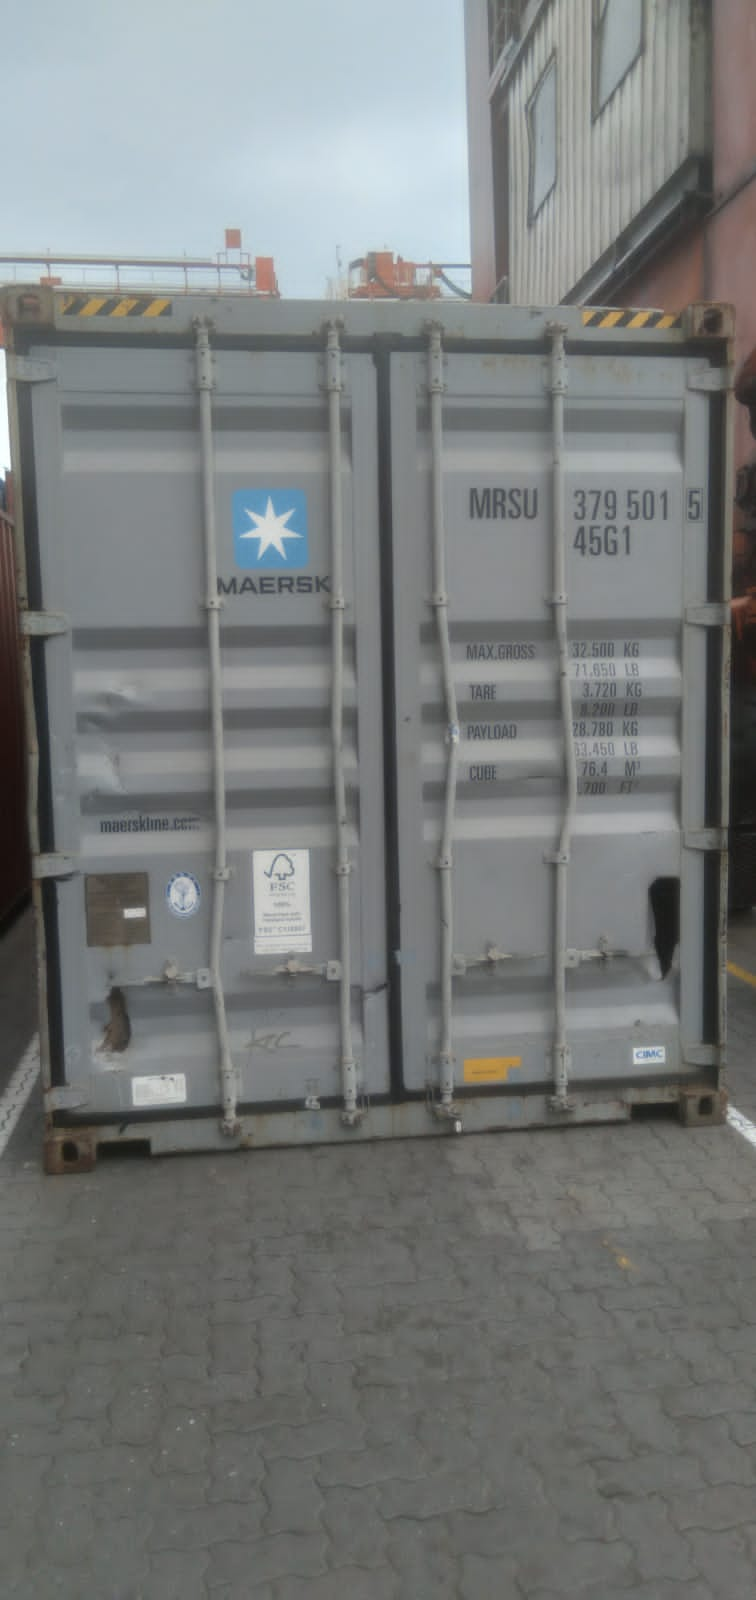moderate: (52, 647, 155, 810)
severe: (614, 855, 719, 998), (79, 972, 143, 1067)
